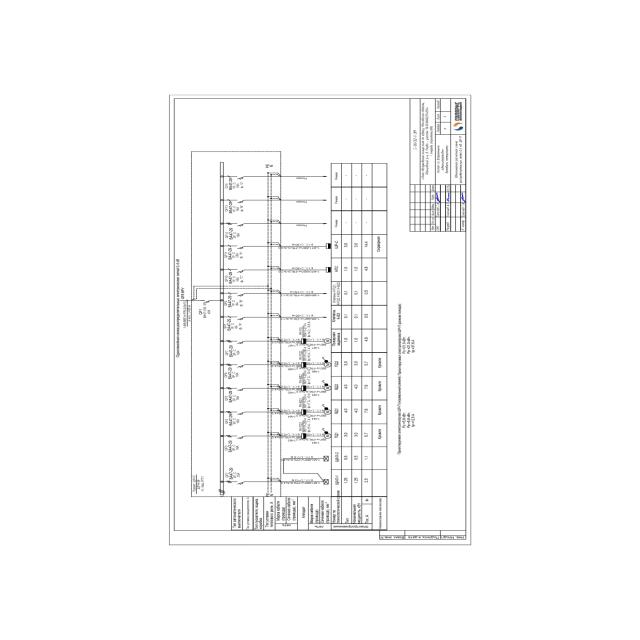-: (228, 201, 244, 214), (228, 178, 244, 191), (228, 272, 244, 284), (228, 319, 242, 332), (228, 295, 242, 308), (228, 248, 243, 260), (228, 467, 241, 480), (227, 440, 240, 453), (227, 367, 240, 380), (228, 390, 241, 403), (228, 346, 241, 358), (228, 414, 241, 426), (229, 228, 242, 240), (197, 475, 205, 493), (203, 302, 211, 319)
QF: (234, 410, 246, 416), (234, 198, 246, 204), (234, 480, 246, 486), (234, 292, 245, 298), (234, 434, 245, 440), (234, 386, 245, 392), (234, 268, 245, 274), (234, 363, 246, 368), (234, 222, 246, 227), (234, 245, 245, 250), (233, 340, 245, 344), (234, 316, 245, 320), (235, 176, 246, 180), (202, 299, 211, 303)
